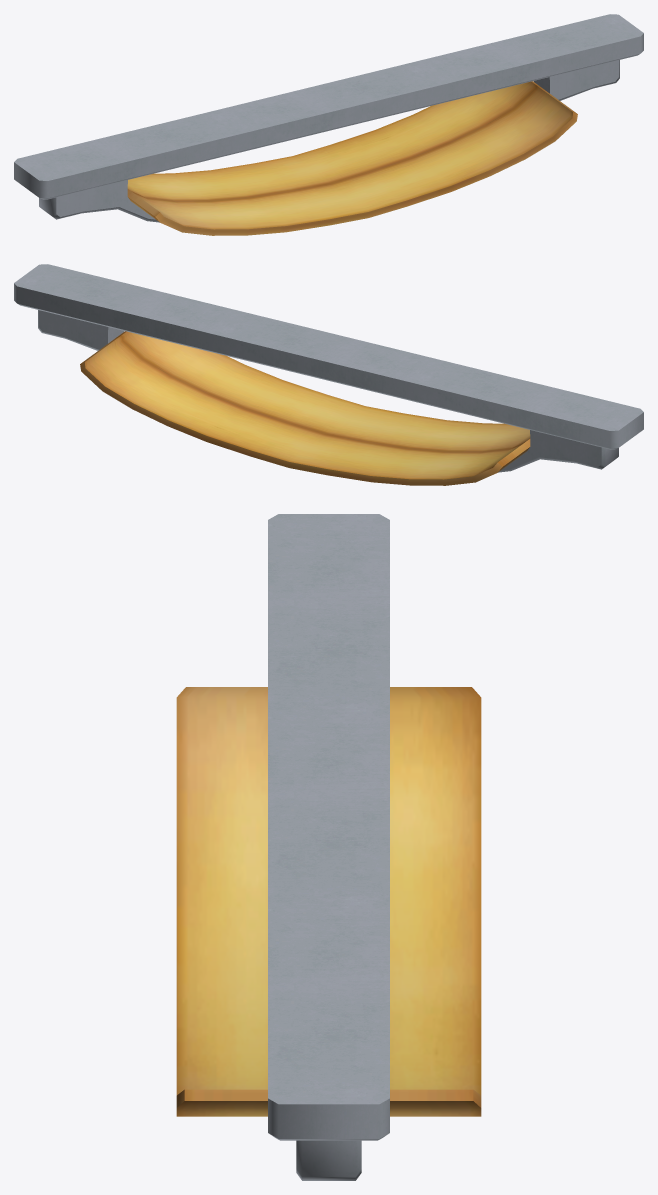
The model's file is p6_light_modern_sconce_on_LOD0.obj.
The picture shows the model from 3 angles, top to bottom: view 1: azimuth 30°, elevation 25°; view 2: azimuth 150°, elevation 25°; view 3: azimuth 270°, elevation 25°; orthographic projection. The views are drawn at different scales.
Visible parts, largest first — view 1: metal_exterior_karma, light_rice_paper_orange; view 2: metal_exterior_karma, light_rice_paper_orange; view 3: light_rice_paper_orange, metal_exterior_karma.
Boxes of the visible parts, <box> form: metal_exterior_karma: <box>14,14,643,222</box>; light_rice_paper_orange: <box>127,81,577,235</box>; metal_exterior_karma: <box>14,264,643,472</box>; light_rice_paper_orange: <box>80,331,530,485</box>; light_rice_paper_orange: <box>176,687,481,1116</box>; metal_exterior_karma: <box>268,514,389,1180</box>.
Bounding box in the file's own units: 140 × 23.11 × 30.6.
